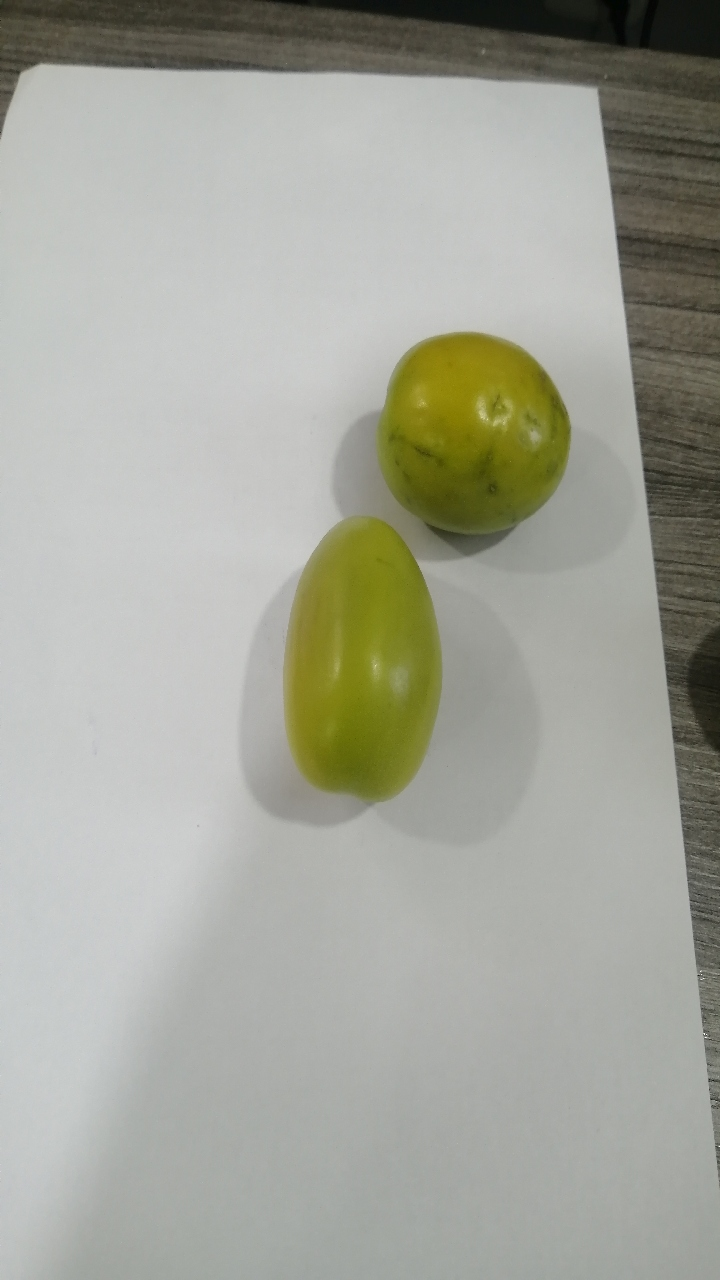tomateVerde: (266, 494, 471, 837), (364, 309, 595, 555)
